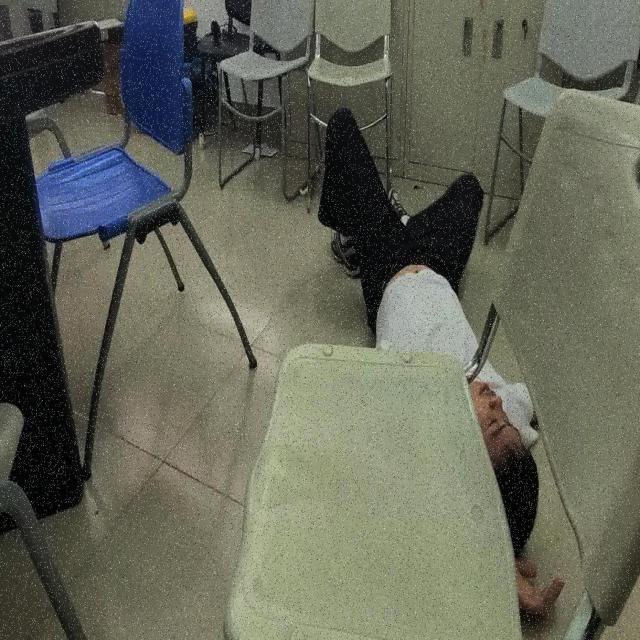fall: (324, 105, 568, 611)
